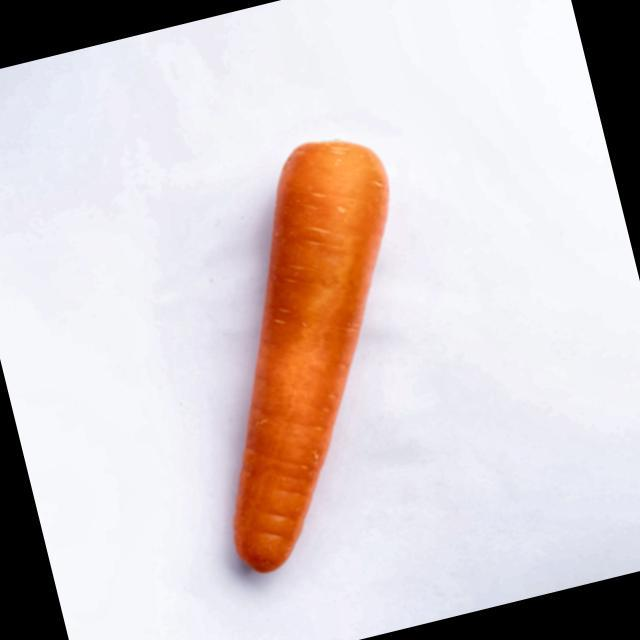carrot: (235, 141, 389, 572)
